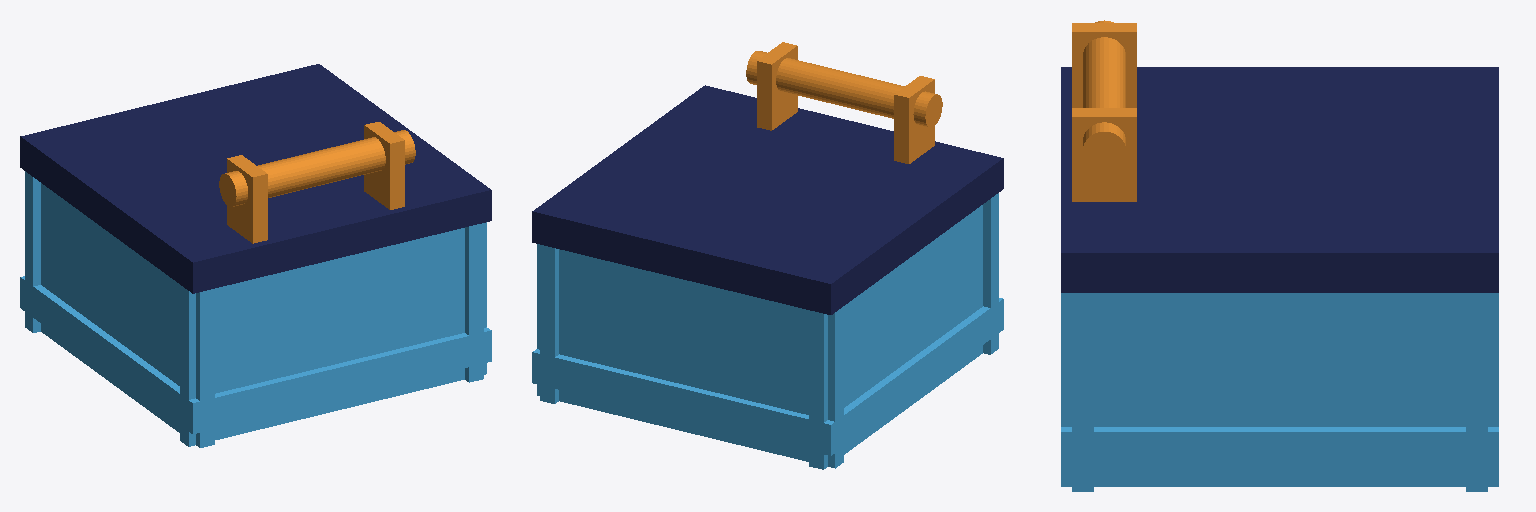
URDF robot description (bowl.urdf):
<?xml version="0.0" ?>
<robot name="bowl.urdf">

  <material name="yellow">
    <color rgba="1 1 0.4 1"/>
  </material>
  <material name="red">
    <color rgba="1 0 0 1"/>
  </material>
  <material name="blue">
    <color rgba=".17 .20 .38 1"/>
  </material>
  <material name="teal">
    <color rgba="0 .5 .5 1"/>
  </material>
  <material name="orange">
    <color rgba=".93 .6 .23 1"/>
  </material>

  <link name="world"/>

  <link name="base">
    <inertial>
      <origin rpy="0 0 0" xyz="0.0 0.0 0.0"/>
       <mass value=".1"/>
       <inertia ixx="1" ixy="0" ixz="0" iyy="1" iyz="0" izz="1"/>
    </inertial>
    <!-- <visual>
      <origin rpy="0 0 0" xyz="0 0 0"/>
      <geometry>
        <box size="1 1 0.5"/> -->
        <!-- <mesh filename="roboverse/envs/assets/objects/box/box.dae" scale="[phone redacted]"/> -->
      <!-- </geometry>
      <material name="teal"/>
    </visual> -->
    <visual>
      <!-- bottom -->
      <origin rpy="0 0 0" xyz="0 0 -0.15"/>
      <geometry>
        <box size="1 1 .1"/>
      </geometry>
    </visual>
    <visual>
      <!-- right -->
      <origin rpy="0 0 0" xyz="0 -.45 0"/>
      <geometry>
        <box size="1 .05 .5"/>
      </geometry>
    </visual>
    <visual>
      <!-- left -->
      <origin rpy="0 0 0" xyz="0 .45 0"/>
      <geometry>
        <box size="1 .05 .5"/>
      </geometry>
    </visual>
    <visual>
      <!-- front -->
      <origin rpy="0 0 0" xyz=".45 0 0"/>
      <geometry>
        <box size=".05 1 .5"/>
      </geometry>
    </visual>
    <visual>
      <!-- back -->
      <origin rpy="0 0 0" xyz="-.45 0 0"/>
      <geometry>
        <box size=".05 1 .5"/>
      </geometry>
    </visual>
    <collision>
      <origin rpy="0 0 0" xyz="0 0 -.3"/>
      <geometry>
        <box size="1.2 1.2 .1"/>
      </geometry>
    </collision>
    <collision>
      <!-- right -->
      <origin rpy="0 0 0" xyz="0 -.45 0"/>
      <geometry>
        <box size="1 .05 .5"/>
      </geometry>
    </collision>
    <collision>
      <!-- left -->
      <origin rpy="0 0 0" xyz="0 .45 0"/>
      <geometry>
        <box size="1 .05 .5"/>
      </geometry>
    </collision>
    <collision>
      <!-- front -->
      <origin rpy="0 0 0" xyz=".45 0 0"/>
      <geometry>
        <box size=".05 1 .5"/>
      </geometry>
    </collision>
    <collision>
      <!-- back -->
      <origin rpy="0 0 0" xyz="-.45 0 0"/>
      <geometry>
        <box size=".05 1 .5"/>
      </geometry>
    </collision>
  </link>

  <link name="lid">
    <lateral_friction value="1.0"/>
    <rolling_friction value="0.0"/>
    <contact_cfm value="0.0"/>
    <contact_erp value="1.0"/>
    <inertial>
      <origin rpy="0 0 0" xyz="-0.5 -0.5 0"/>
      <mass value=".25"/>
      <inertia ixx="0.1" ixy="0" ixz="0" iyy="0.1" iyz="0" izz="0.1"/>
    </inertial>
    <visual>
      <origin rpy="0 0 0" xyz="-0.5 -0.5 0"/>
      <geometry>
        <box size="1 1 .1"/>
      </geometry>
      <material name="blue"/>
    </visual>
    <collision>
      <origin rpy="0 0 0" xyz="-0.5 -0.5 0"/>
      <geometry>
        <box size="1 1 .1"/>
      </geometry>
    </collision>
  </link>

  <link name="handle_plate_far">
    <contact>
      <rolling_friction value="1000.0"/>
      <lateral_friction value="1000.0"/>
      <spinning_friction value="1000.0"/>
    </contact>
    <inertial>
      <origin rpy="0 1.57 0" xyz="-0.38 -0.43 0.075"/>
      <mass value=".1"/>
      <inertia ixx="1" ixy="0" ixz="0" iyy="1" iyz="0" izz="1"/>
    </inertial>
    <visual>
      <origin rpy="0 0 0" xyz="-0.38 -0.43 0.075"/>
      <geometry>
        <box size=".05 .15 .225"/>
      </geometry>
      <material name="orange"/>
    </visual>
    <collision>
      <origin rpy="0 0 0" xyz="-0.38 -0.43 0.075"/>
      <geometry>
        <box size=".1 .1 .2"/>
      </geometry>
    </collision>
  </link>

  <link name="handle_plate_near">
    <contact>
      <rolling_friction value="1000.0"/>
      <lateral_friction value="1000.0"/>
      <spinning_friction value="1000.0"/>
    </contact>
    <inertial>
      <origin rpy="0 1.57 0" xyz="-0.15 -0.43 0.075"/>
      <mass value=".1"/>
      <inertia ixx="1" ixy="0" ixz="0" iyy="1" iyz="0" izz="1"/>
    </inertial>
    <visual>
      <origin rpy="0 0 0" xyz="-0.15 -0.43 0.075"/>
      <geometry>
        <box size=".05 .15 .225"/>
      </geometry>
      <material name="orange"/>
    </visual>
    <collision>
      <origin rpy="0 0 0" xyz="-0.15 -0.43 0.075"/>
      <geometry>
        <box size=".1 .1 .2"/>
      </geometry>
    </collision>
  </link>

  <link name="handle_r">
    <!-- <lateral_friction value="1.0"/>
    <rolling_friction value="0.0"/>
    <contact_cfm value="0.0"/>
    <contact_erp value="1.0"/> -->
    <!-- <contact>
      <lateral_friction value="100.0"/>
      <spinning_friction value="0.0"/>
    </contact> -->
    <contact>
      <rolling_friction value="1000.0"/>
      <lateral_friction value="1000.0"/> 
      <!-- lateral_friction was key to not making the gripper slide on the handle--> 
      <spinning_friction value="1000.0"/>
    </contact>
    <inertial>
      <origin rpy="0 1.57 0" xyz="0.275 -0.9 0.3"/>
      <mass value=".1"/>
      <inertia ixx="1" ixy="0" ixz="0" iyy="1" iyz="0" izz="1"/>
    </inertial>
    <visual>
      <origin rpy="0 1.57 0" xyz="0.275 -0.9 0.3"/>
      <geometry>
        <!-- <box size="0.5 0.1 .2"/> -->
        <cylinder radius="0.05" length="0.6"/>
      </geometry>
      <!-- <origin rpy="" xyz=""/>
      <geometry>
        dd
      </geometry> -->
      <material name="orange"/>
    </visual>
    <collision>
      <origin rpy="0 1.57 0" xyz="0.275 -0.9 0.3"/>
      <geometry>
        <!-- <box size="0.5 0.1 .2"/> -->
        <cylinder radius="0.05" length="0.6"/>
      </geometry>
      <!-- <contact_coefficients mu="-100.0" kp="0.01" kd="2"/> -->
    </collision>
  </link>

  <joint name="base_joint" type="fixed">
    <parent link="world"/>
    <child link="base"/>
  </joint>
  
  <!-- For debugging the box -->
  <!-- <joint name="base_joint" type="revolute">
    <origin rpy="0 0 0" xyz="0.5 0.5 0.3"/>
    <parent link="world"/>
    <child link="base"/>
    <axis rpy="0 0 0" xyz="0 0 1"/>
    <limit effort="100" lower="-3" upper="0" velocity="100"/>
    <dynamics damping="0.0" friction=".1"/>
  </joint> -->

  <joint name="lid_joint" type="revolute">
    <origin rpy="0 0 0" xyz="0.5 0.5 0.3"/>
    <parent link="base"/>
    <child link="lid"/>
    <axis rpy="0 0 0" xyz="1 0 0"/>
    <limit effort="100" lower="-3" upper="0" velocity="100"/>
    <dynamics damping="0.0" friction=".1"/>
  </joint>

  <joint name="handle_plate_far_joint" type="fixed">
    <!-- <contact>
      <lateral_friction value="100.0"/>
      <spinning_friction value="0.0"/>
    </contact> -->
    <origin rpy="0 0 0" xyz="-0.38 -0.47 0.075"/>
    <parent link="lid"/>
    <child link="handle_plate_far"/>
  </joint>

  <joint name="handle_plate_near_joint" type="fixed">
    <!-- <contact>
      <lateral_friction value="100.0"/>
      <spinning_friction value="0.0"/>
    </contact> -->
    <origin rpy="0 0 0" xyz="-0.15 -0.47 0.075"/>
    <parent link="lid"/>
    <child link="handle_plate_near"/>
  </joint>

  <joint name="handle_r_joint" type="fixed">
    <!-- <contact>
      <lateral_friction value="100.0"/>
      <spinning_friction value="0.0"/>
    </contact> -->
    <origin rpy="0 0 0" xyz="-0.8 0 -0.1"/>
    <parent link="lid"/>
    <child link="handle_r"/>
  </joint>

</robot>

--- Render facts (derived) ---
Views: 3 orthographic renders of the robot side by side, from view 1: azimuth 30°, elevation 25°; view 2: azimuth 150°, elevation 25°; view 3: azimuth 270°, elevation 25°.
Robot: bowl.urdf — 6 links, 5 joints (1 revolute, 4 fixed); root link world; default pose: every joint at zero.
Visible links, largest first — view 1: base, lid, handle_r, handle_plate_far, handle_plate_near; view 2: base, lid, handle_r, handle_plate_far, handle_plate_near; view 3: lid, base, handle_r, handle_plate_near, handle_plate_far.
Boxes of the visible links, left/top/right/bottom form: base: left=20, top=171, right=491, bottom=447; lid: left=20, top=64, right=491, bottom=293; handle_r: left=219, top=130, right=415, bottom=206; handle_plate_far: left=227, top=155, right=267, bottom=243; handle_plate_near: left=364, top=122, right=404, bottom=209; base: left=532, top=193, right=1003, bottom=469; lid: left=532, top=85, right=1003, bottom=314; handle_r: left=746, top=51, right=942, bottom=127; handle_plate_far: left=894, top=76, right=934, bottom=163; handle_plate_near: left=757, top=42, right=797, bottom=130; lid: left=1061, top=67, right=1498, bottom=292; base: left=1061, top=293, right=1498, bottom=491; handle_r: left=1083, top=20, right=1125, bottom=170; handle_plate_near: left=1072, top=108, right=1136, bottom=201; handle_plate_far: left=1072, top=23, right=1136, bottom=107.
Bounding box of the posed robot: 1 × 1 × 0.8125 m (x, y, z).
Geometry: primitives only (box / cylinder / sphere), no mesh files.